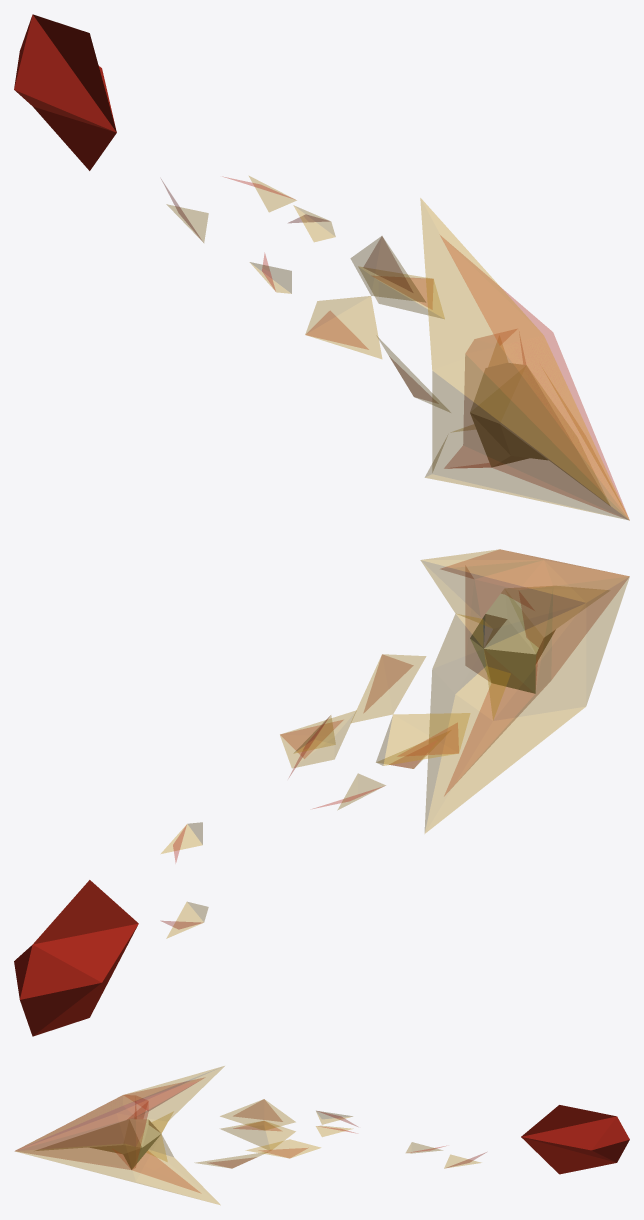
File: dragon_arrow.glb
3 renders of one model, top to bottom at view 1: azimuth 30°, elevation 25°; view 2: azimuth 150°, elevation 25°; view 3: azimuth 270°, elevation 25°, orthographic. The views are drawn at different scales.
Bounding box in the file's own units: 14 × 24.08 × 96.
2 materials, 2 textured.
